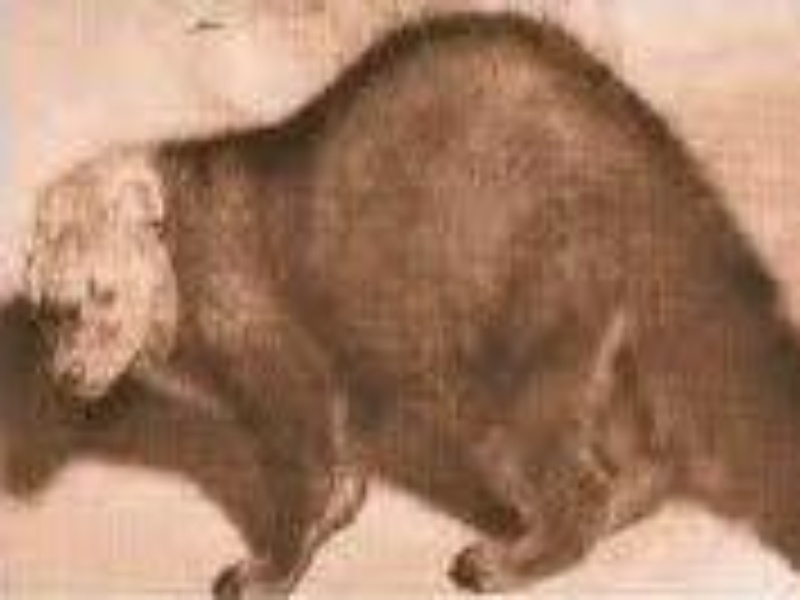minkish: (21, 8, 795, 600)
